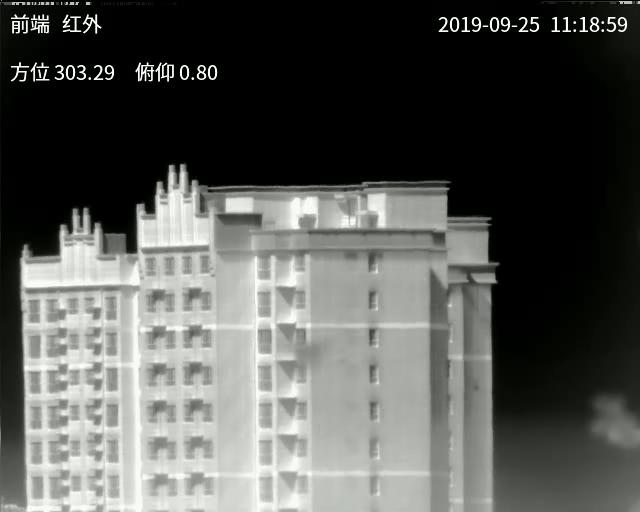uav: (287, 339, 328, 370)
